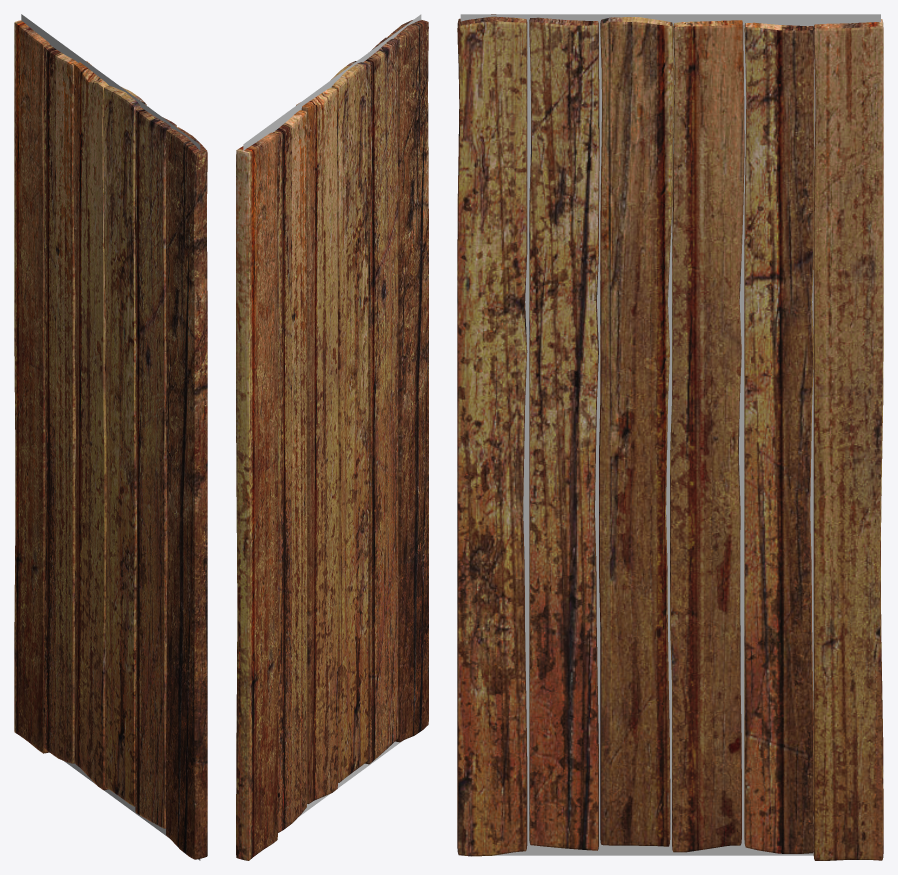
The model's file is 木墙一半.FBX.
3 views of the same model, side by side, from view 1: azimuth 30°, elevation 25°; view 2: azimuth 150°, elevation 25°; view 3: azimuth 270°, elevation 25° (orthographic). The views are drawn at different scales.
Visible parts, largest first — view 1: Box13, Object18; view 2: Box13, Object18; view 3: Box13, Object18.
Boxes of the visible parts, x1,y1,x2,y2 form: Box13: (14, 20, 207, 859); Object18: (21, 14, 200, 860); Box13: (236, 20, 428, 860); Object18: (243, 14, 421, 817); Box13: (457, 14, 883, 860); Object18: (460, 14, 880, 855).
Bounding box in the file's own units: 2.7 × 59 × 129.
